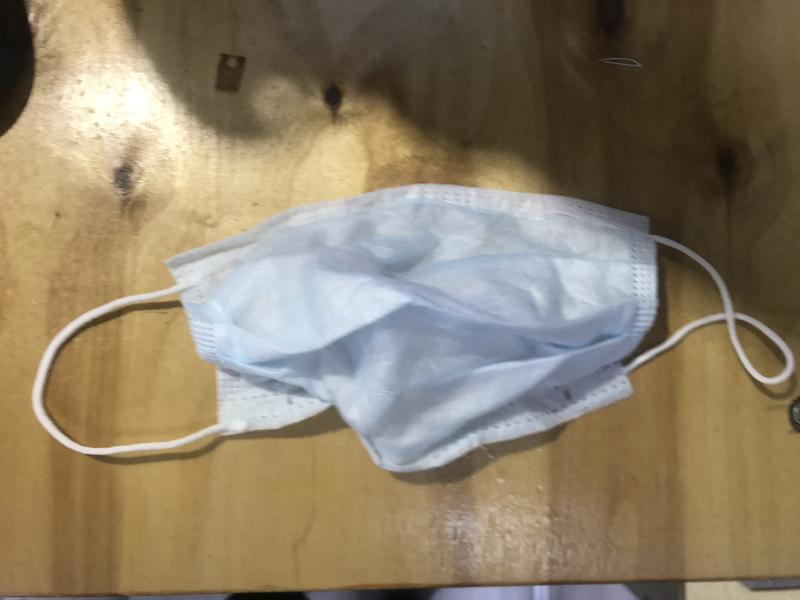medical_mask: (32, 184, 795, 473)
